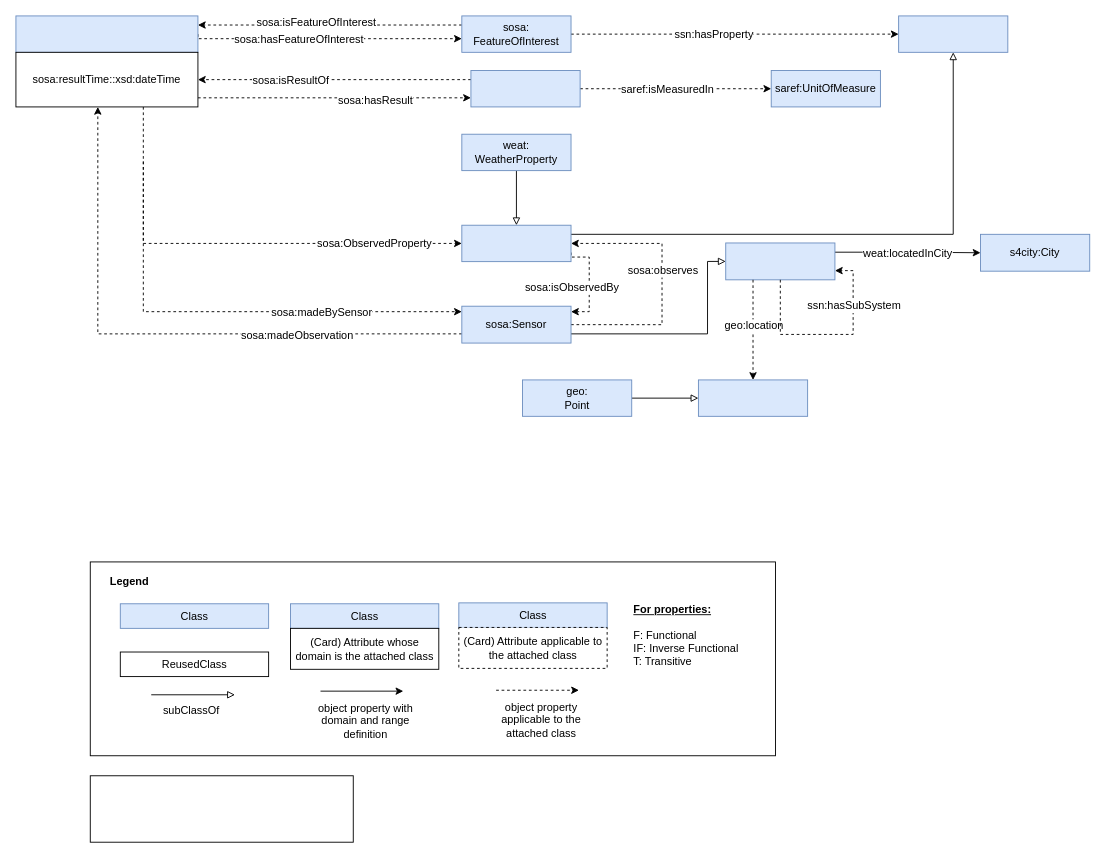
Image size: 1106x858. Some labels were removed from this diagram. Here are the shapes that lost their labels. From the top down, the centre of each, then its label:
point (106, 33): sosa:Observation
point (953, 33): ssn:Property
point (525, 88): sosa:Result
point (516, 243): sosa: ObservableProperty
point (780, 261): ssn:System
point (753, 397): geo: SpatialThing
point (221, 808): Ontology: weat: https://bimerr.iot.linkeddata.es/def/weat# (URI to be defined)
